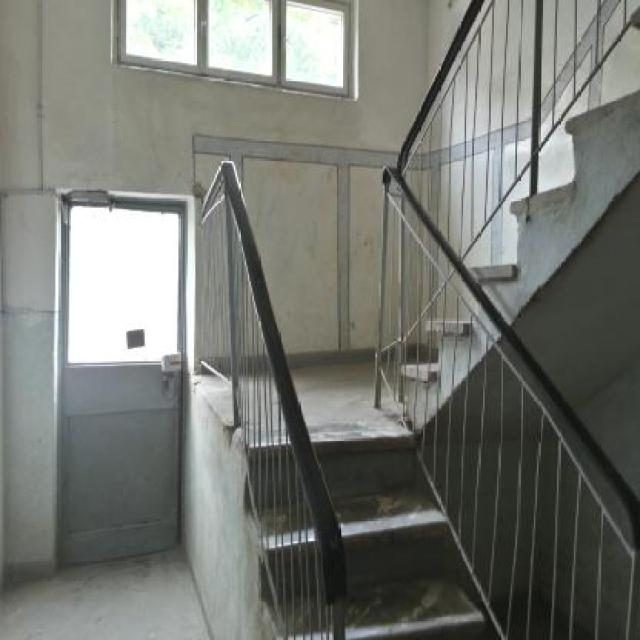stair: (373, 0, 639, 383), (186, 392, 482, 639)
